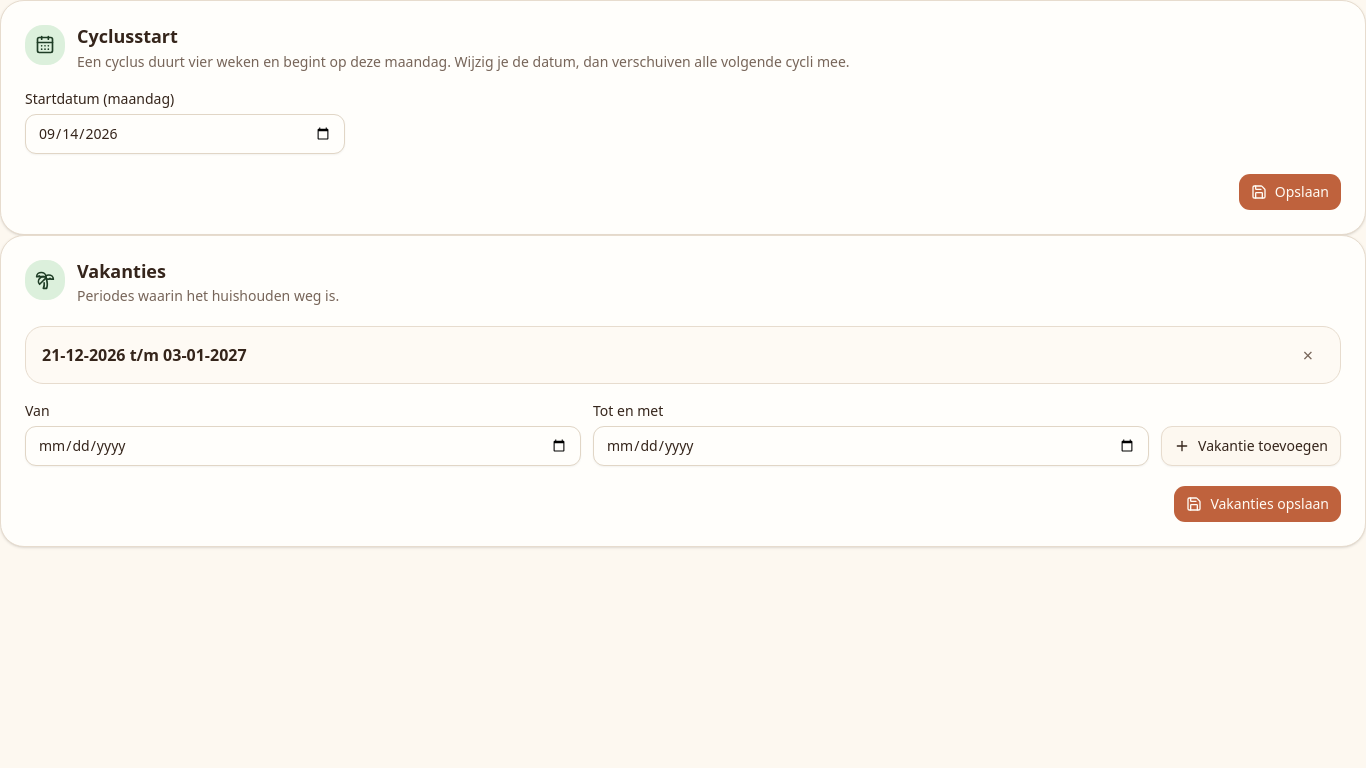
Test: CalendarSection — vacations › adds, validates, removes and saves vacation ranges
Check: the text "21-12-2026 t/m 03-01-2027" is shown, box x1=42 y1=343 x2=247 y2=367
Type "2026-10-19" into the date field labelled "Van" at (303, 446), box x1=25 y1=426 x2=581 y2=466
Click the button "Vakantie toevoegen" at (1251, 446), box x1=1161 y1=426 x2=1341 y2=466
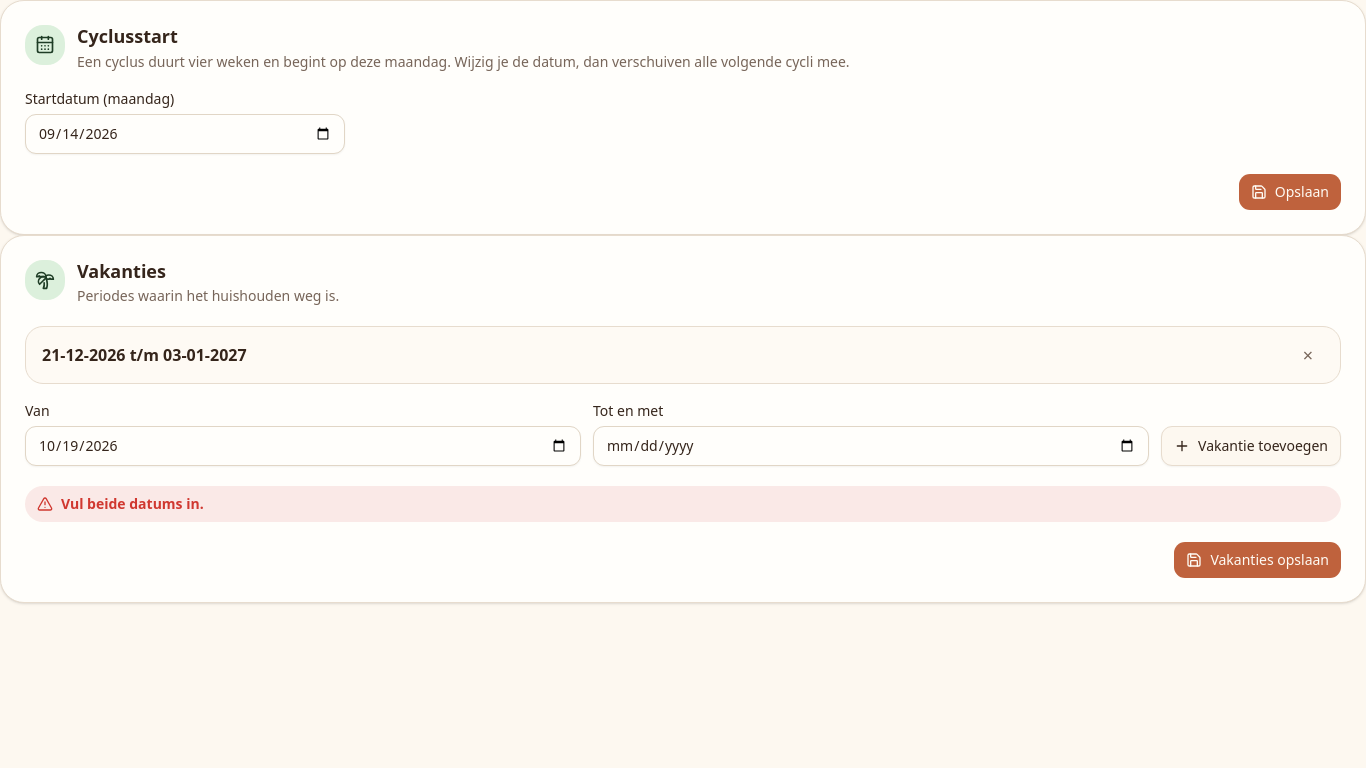
Check: the message reads "Vul beide datums in.", box x1=61 y1=494 x2=204 y2=513
Type "2026-10-12" into the date field labelled "Tot en met" at (871, 446), box x1=593 y1=426 x2=1149 y2=466
Click the button "Vakantie toevoegen" at (1251, 446), box x1=1161 y1=426 x2=1341 y2=466
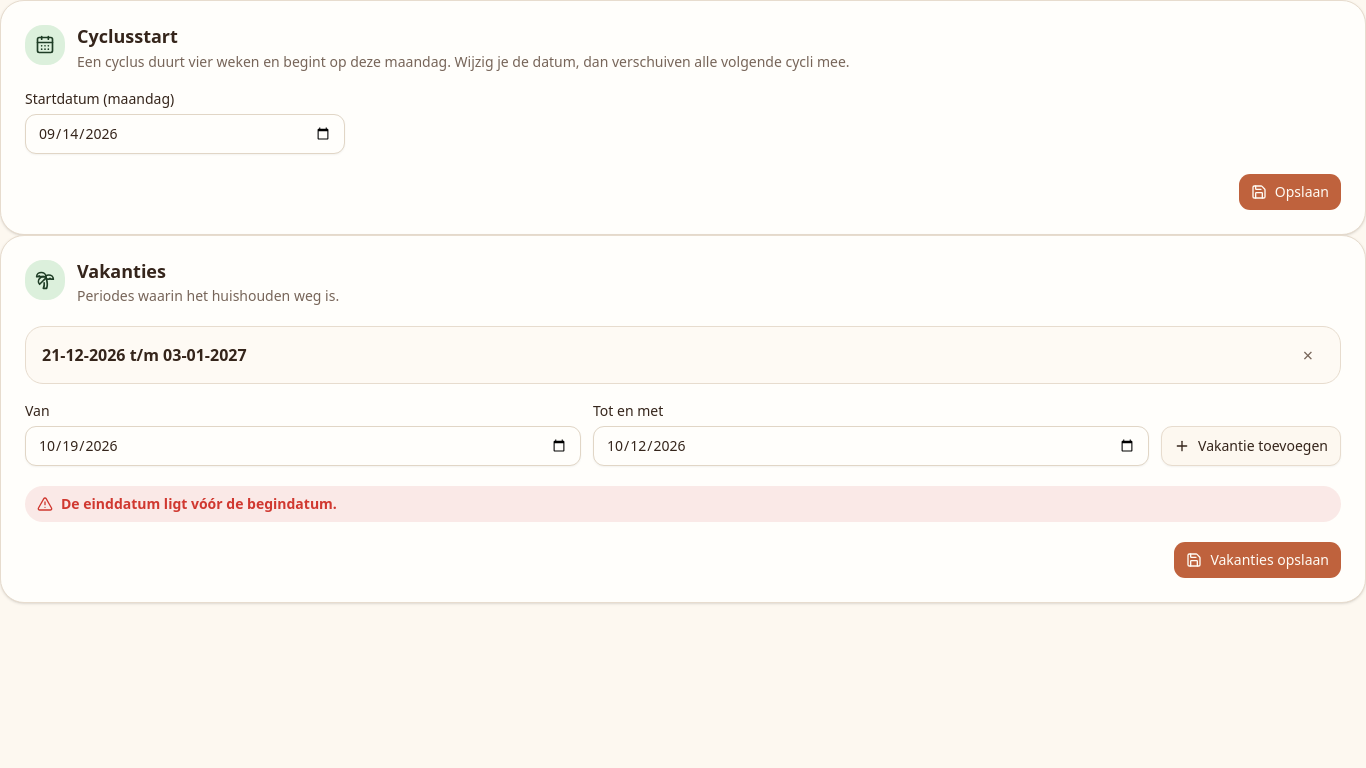
Check: the message reads "De einddatum ligt vóór de begindatum.", box x1=61 y1=494 x2=337 y2=513
Type "2026-10-25" into the date field labelled "Tot en met" at (871, 446), box x1=593 y1=426 x2=1149 y2=466
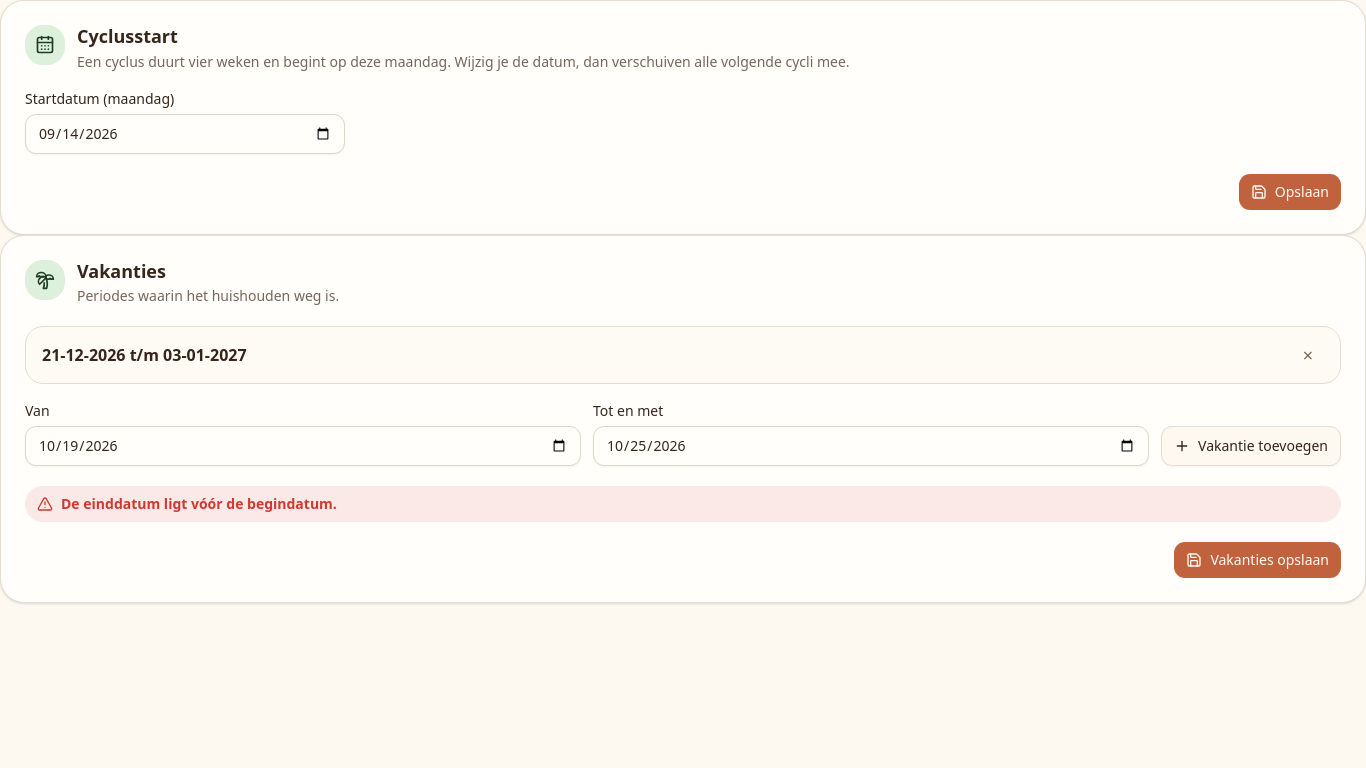
Click the button "Vakantie toevoegen" at (1251, 446), box x1=1161 y1=426 x2=1341 y2=466
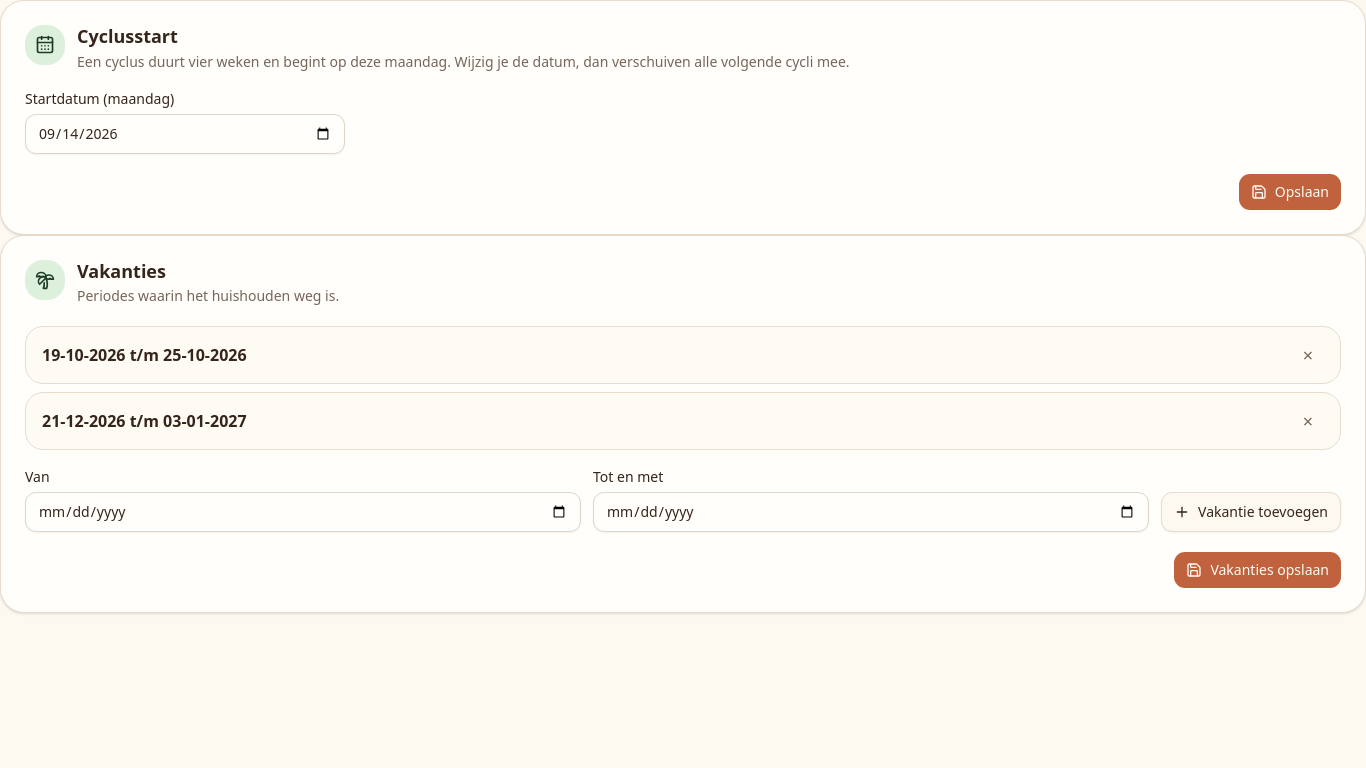
Check: the message "De einddatum ligt vóór de begindatum." is gone
Check: the list items read "19-10-2026 t/m 25-10-2026×", "21-12-2026 t/m 03-01-2027×", in this order, box x1=25 y1=326 x2=1341 y2=384; x1=25 y1=392 x2=1341 y2=450
Click the button named "Verwijder vakantie 21-12-2026 t/m 03-01-2027" at (1308, 421), box x1=1292 y1=405 x2=1324 y2=437
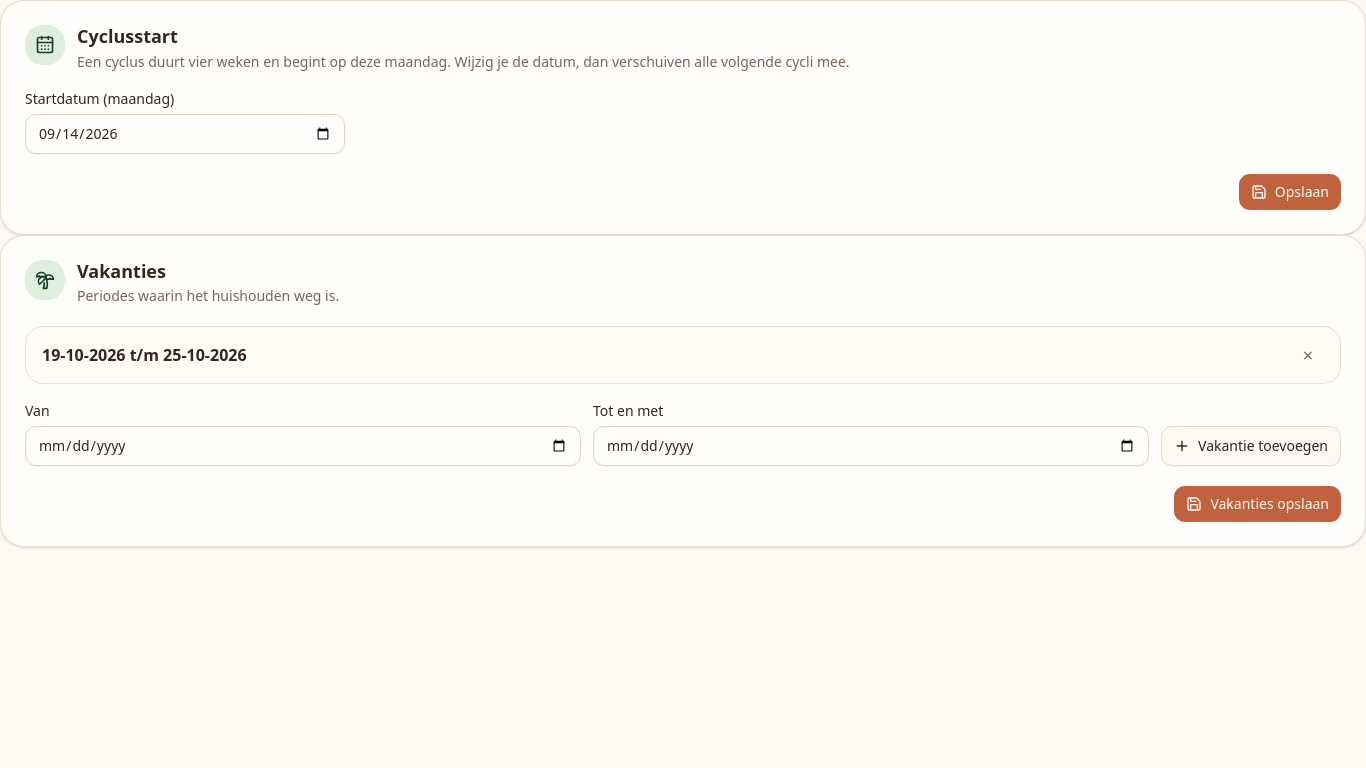
Click the button "Vakanties opslaan" at (1258, 504), box x1=1174 y1=486 x2=1341 y2=522
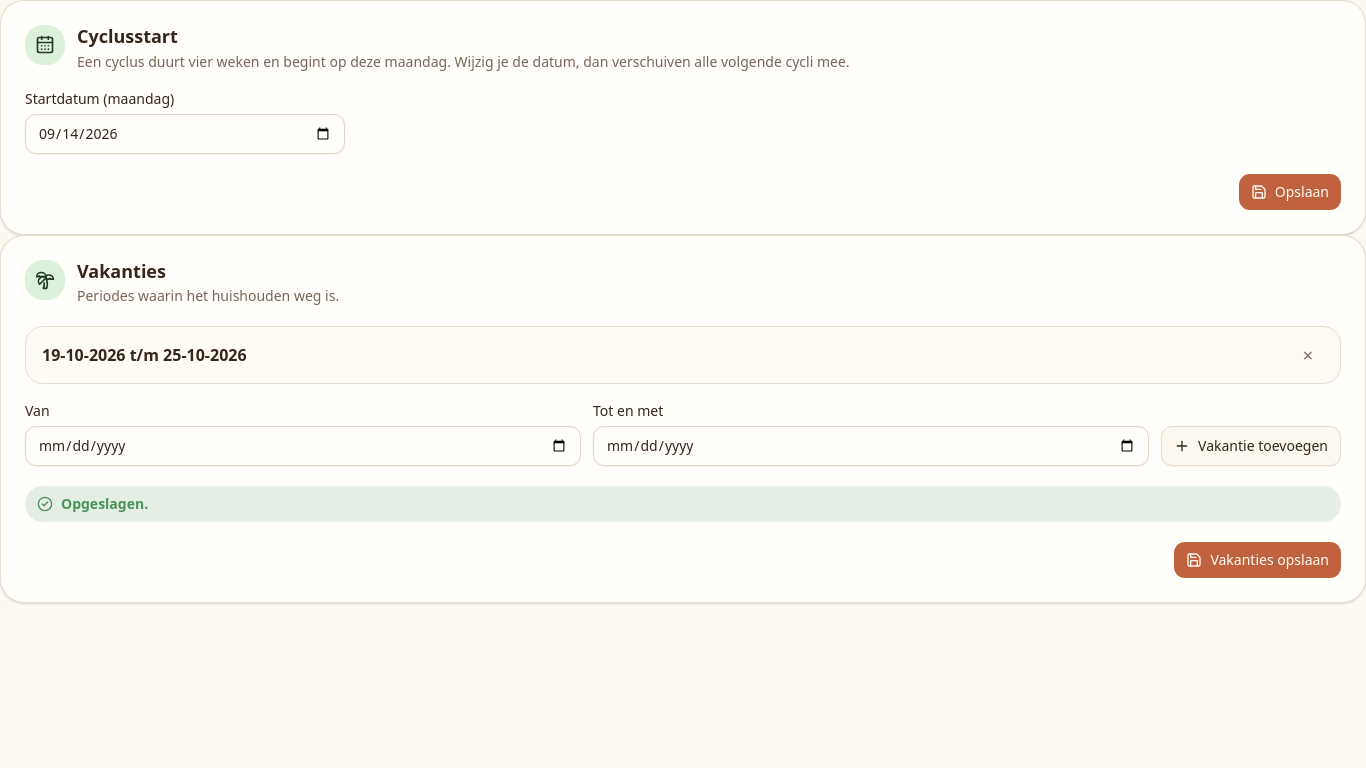
Check: the message reads "Opgeslagen.", box x1=61 y1=494 x2=148 y2=513
